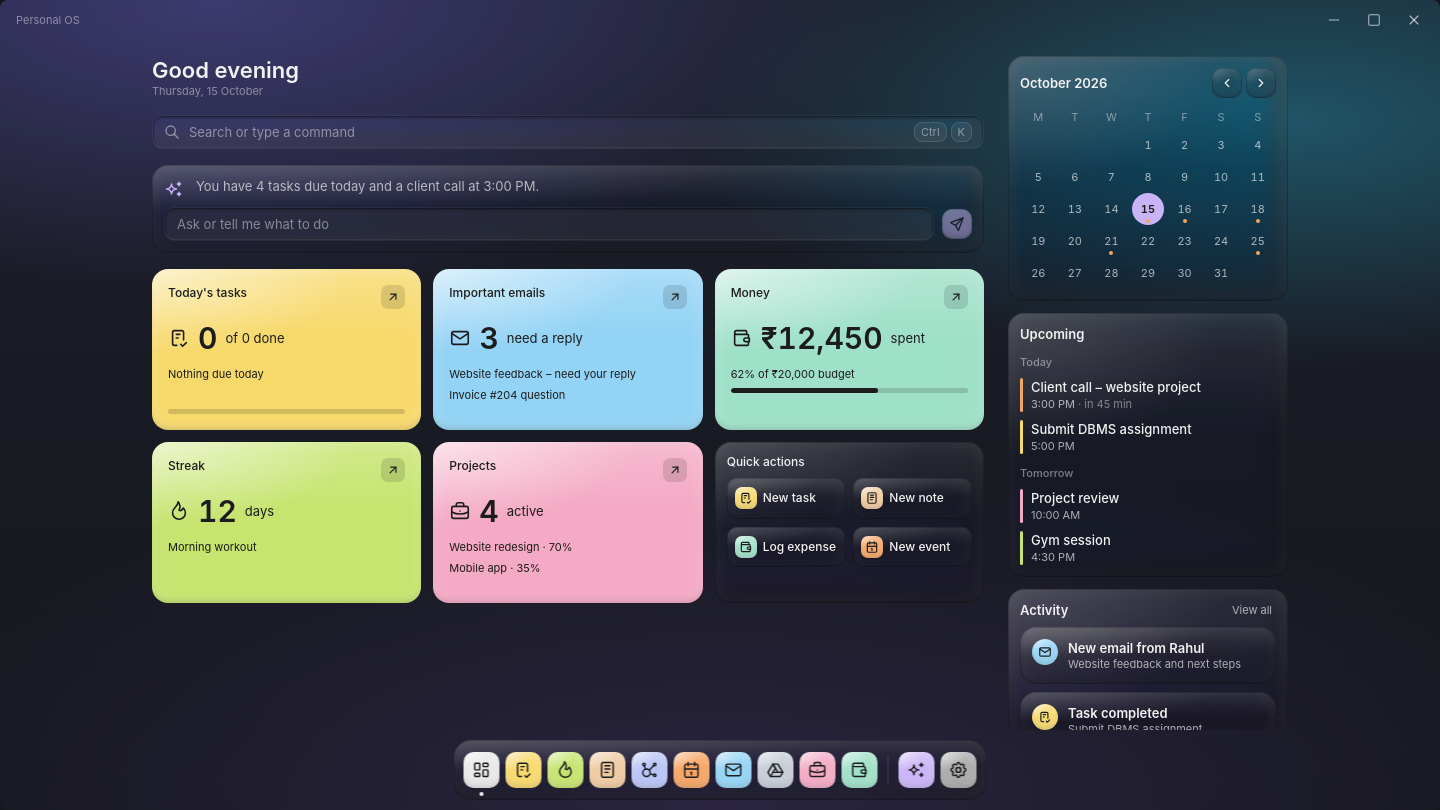
Test: Dashboard tile buttons open the module › Money → Money
Click the button named "Open Money" at (956, 297), box [944,285,968,309]
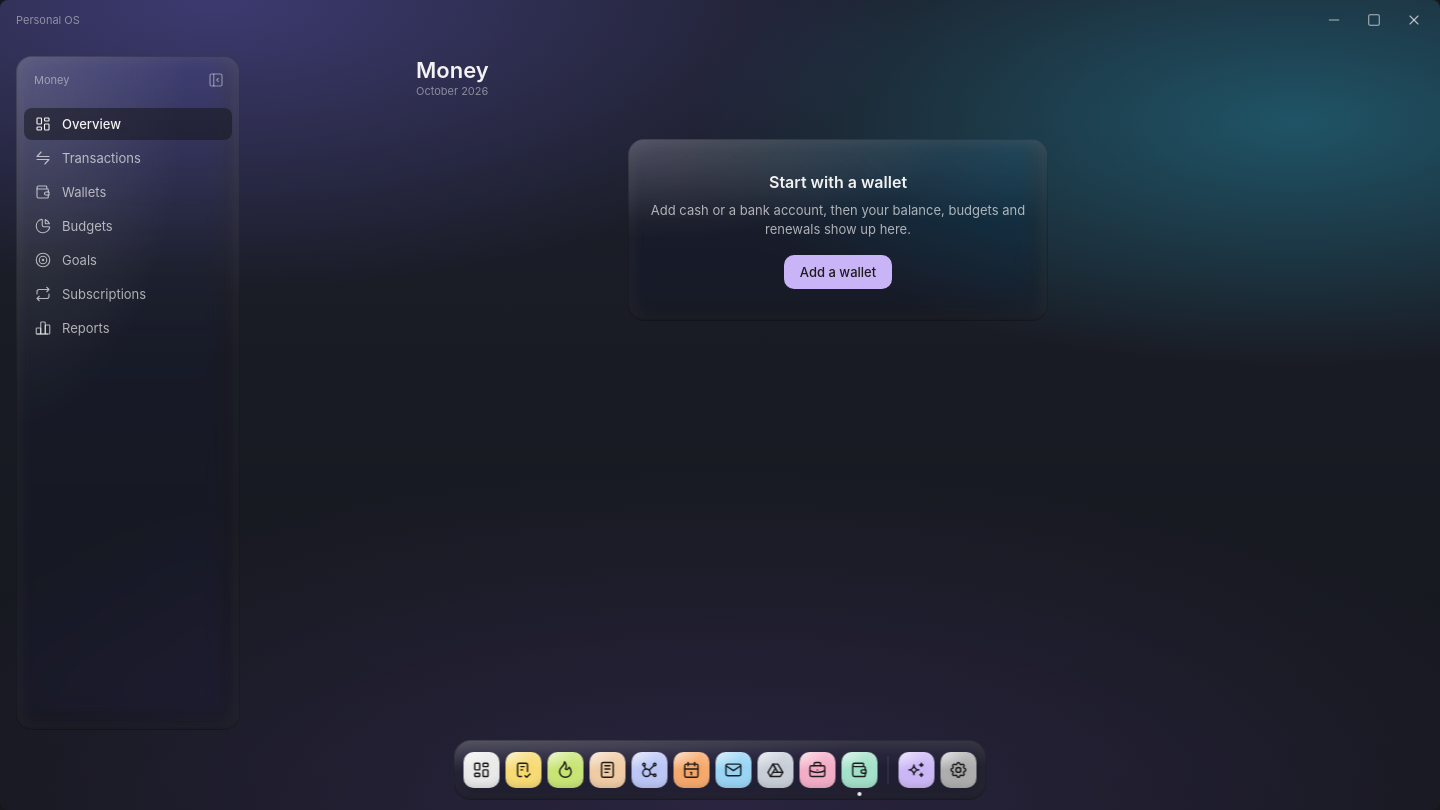
Expected: the heading "Money" is shown, [416,56,489,84]
Expected: the text "Money" is shown, [34,72,69,88]
